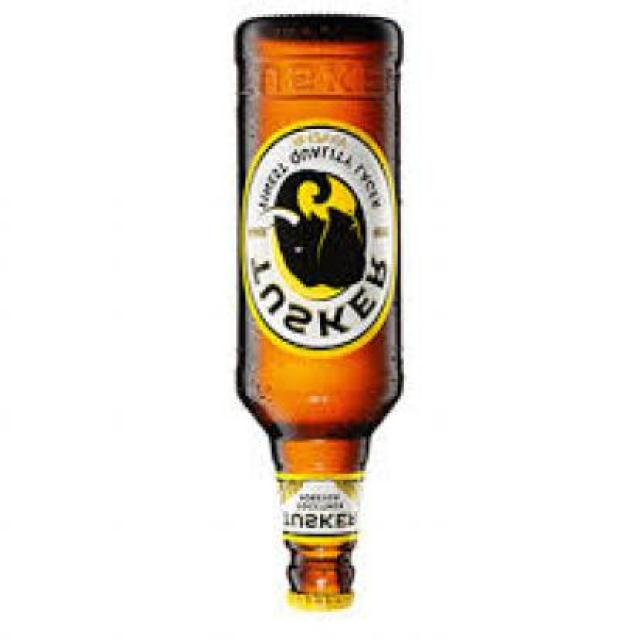kaca: (240, 19, 403, 594)
